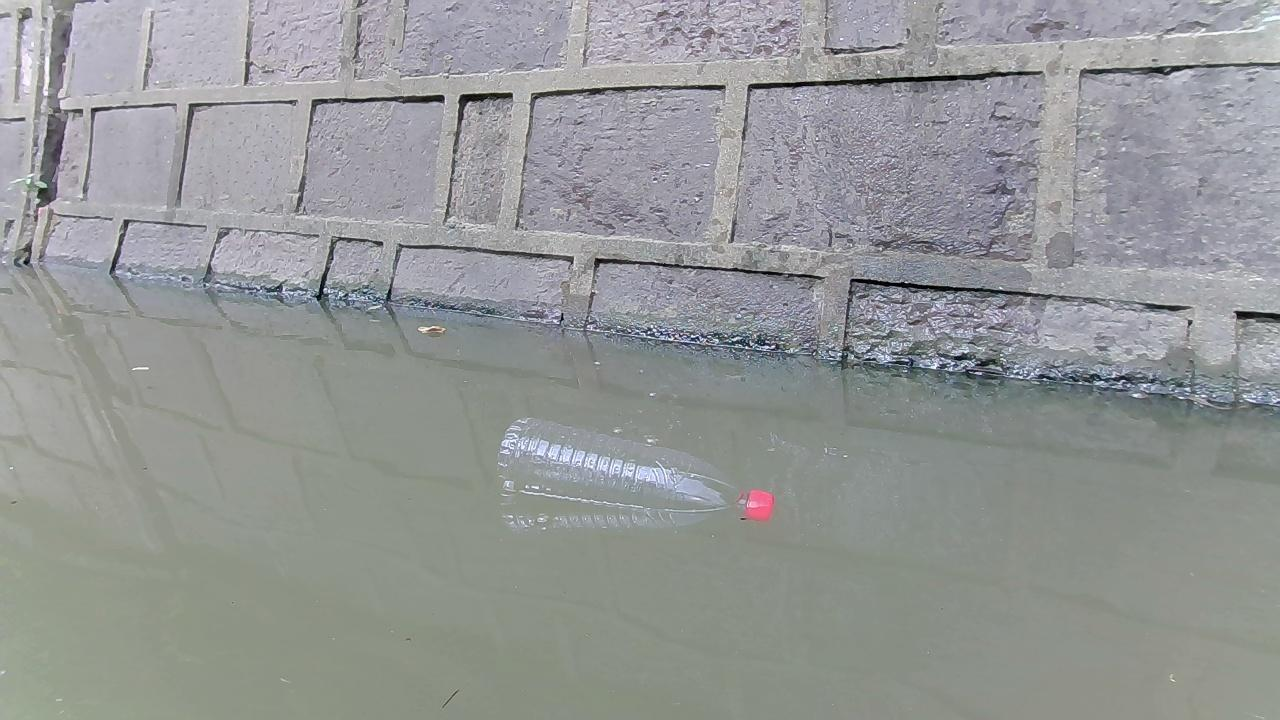bottle: (492, 406, 781, 516)
